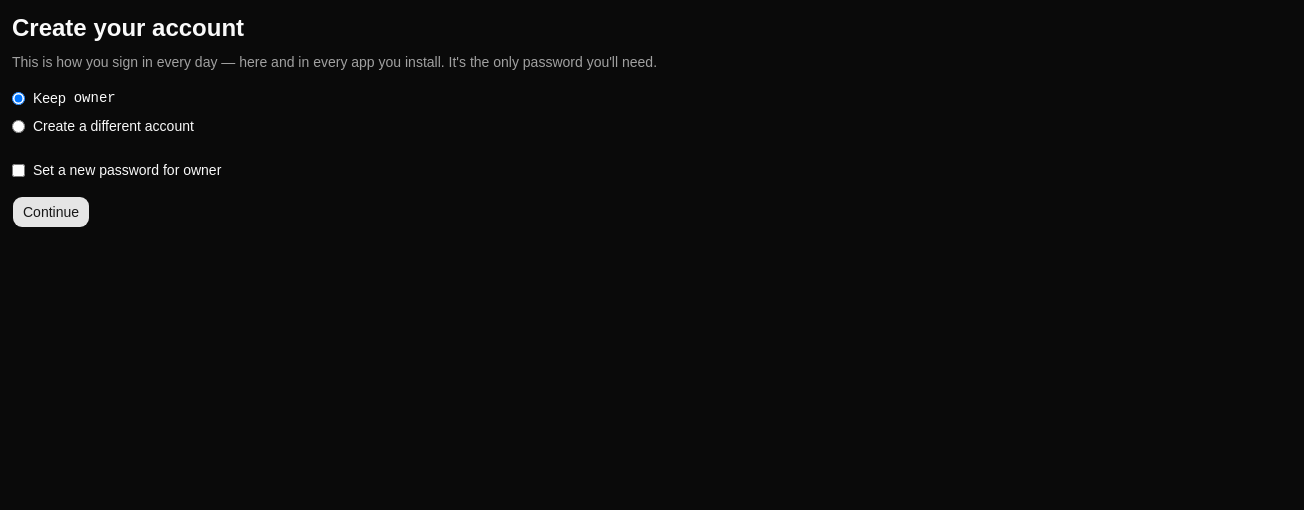
AccountStep › typing the recorded name under 'create a different account' warns it re-passwords that account
Click the radio button labelled "Create a different account": (18, 126) [12,120,25,132]
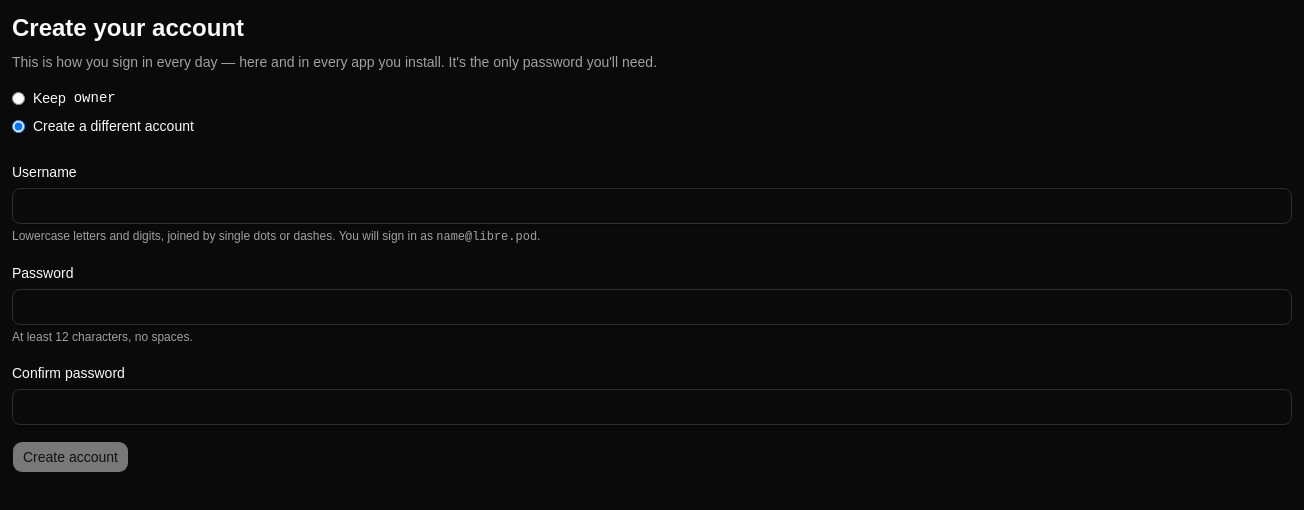
In the field labelled "Username": (652, 206) [12,188,1292,224], type "owner"
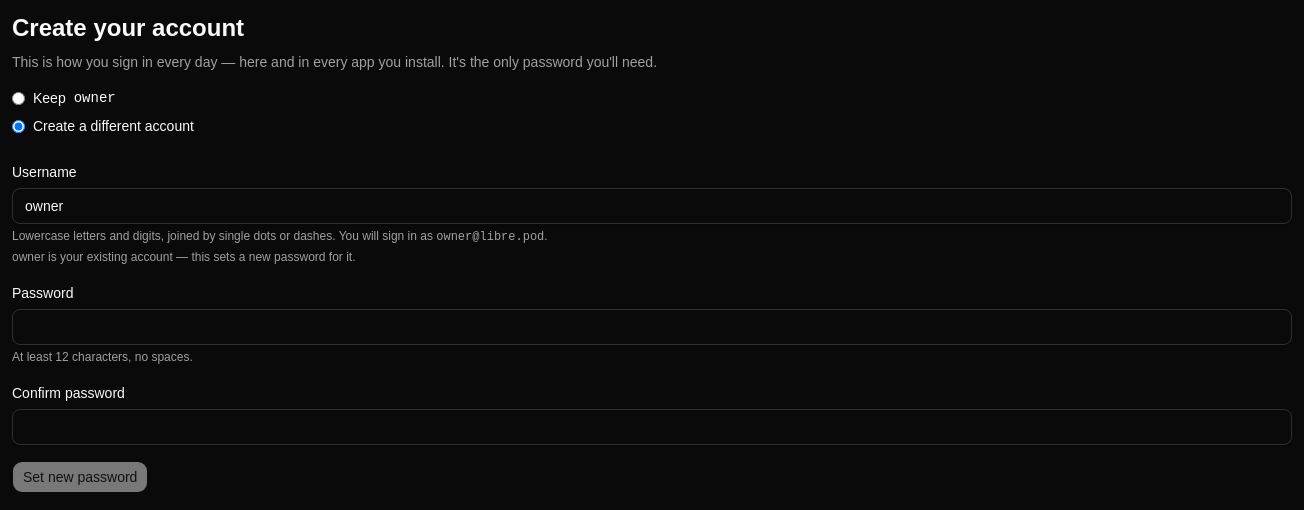
Result: the text "your existing account" is shown at [45,250,356,264]
Result: the button "Set new password" is shown at [12,461,148,493]
